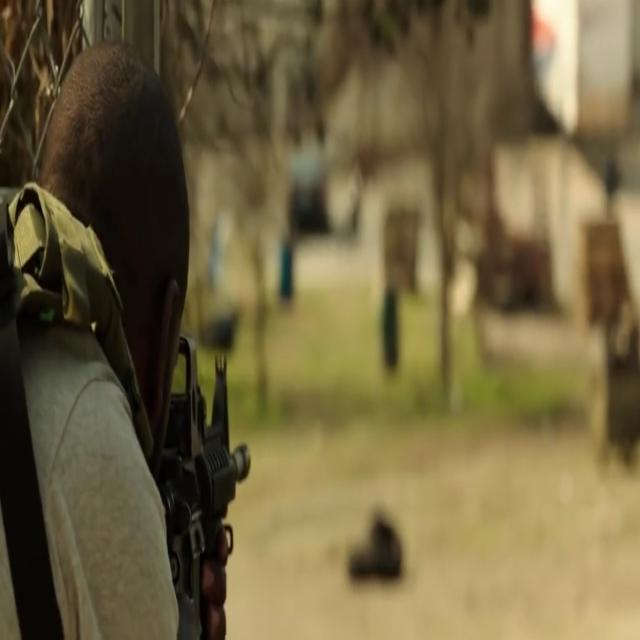Weapon: (153, 314, 269, 640)
